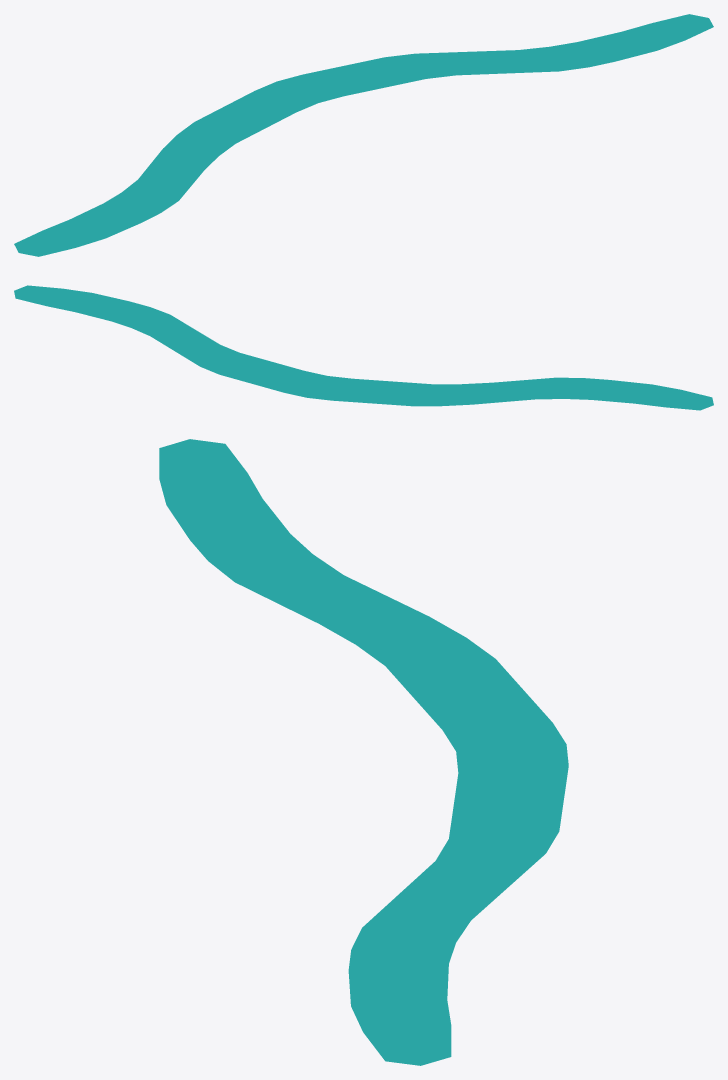
The model's file is frog_color_21.fbx.
3 renders of one model, top to bottom at view 1: azimuth 30°, elevation 25°; view 2: azimuth 150°, elevation 25°; view 3: azimuth 270°, elevation 25°, orthographic. The views are drawn at different scales.
Parts seen in each view (by area): view 1: frog_color_21; view 2: frog_color_21; view 3: frog_color_21.
Part boxes in pixels (x1,y1,x2,y2): frog_color_21: (14, 14, 713, 256); frog_color_21: (14, 285, 713, 410); frog_color_21: (159, 439, 568, 1065).
Bounding box in the file's own units: 65.98 × 0 × 18.22.
